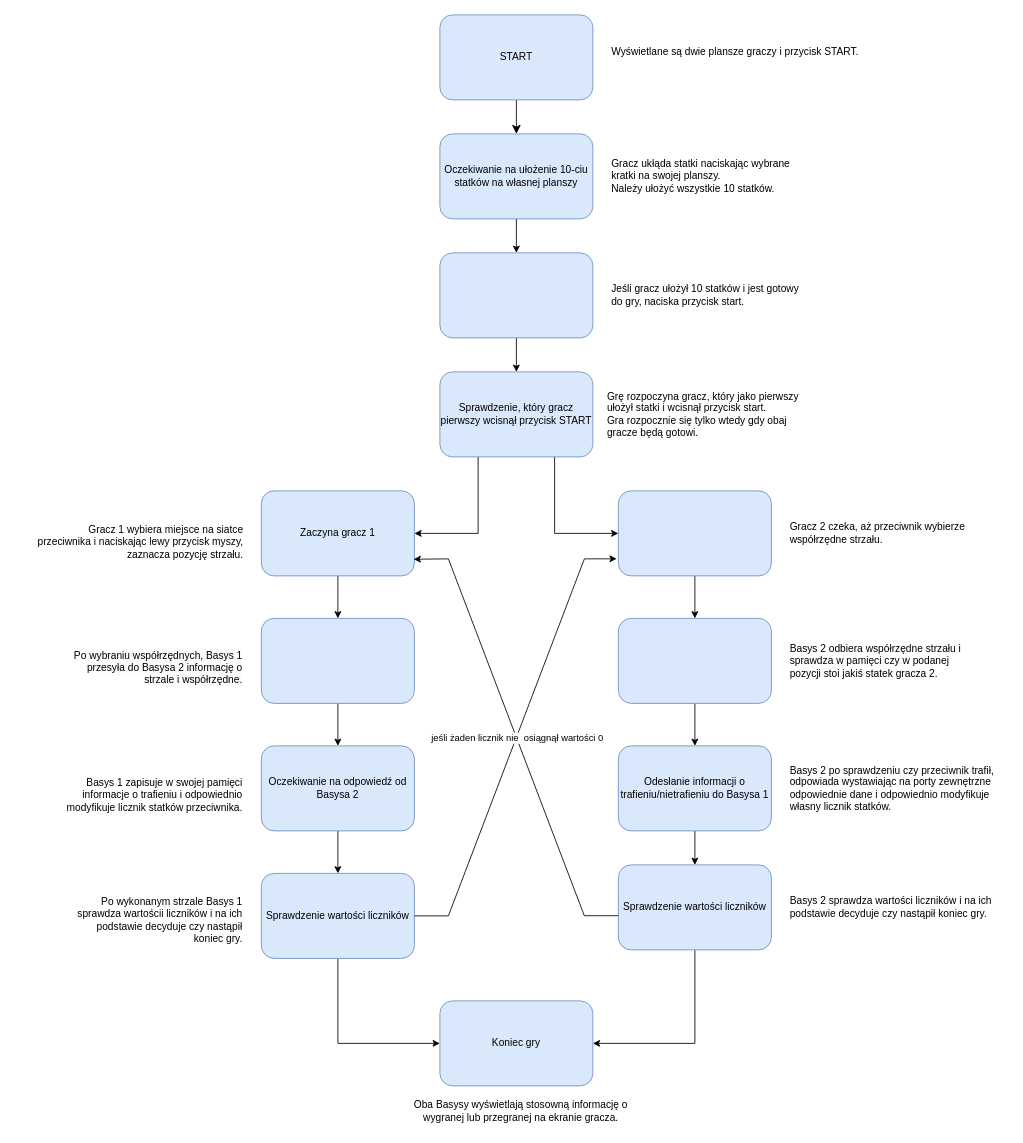
Image size: 1023x1143. Some labels were removed from this diagram. The shapes that lost their labels are listed below. From the top down, each one's box as (x1, y1, x2, y2) in pixels, then its label:
(439, 252, 593, 338): Oczekiwanie na wciśnięcie przycisku START
(618, 490, 771, 576): Gracz 2 oczekuje na ruch przeciwnika
(261, 618, 414, 703): Wysłanie informacji do Basysa 2
(618, 618, 771, 703): Odebranie informacji od Basysa 1
